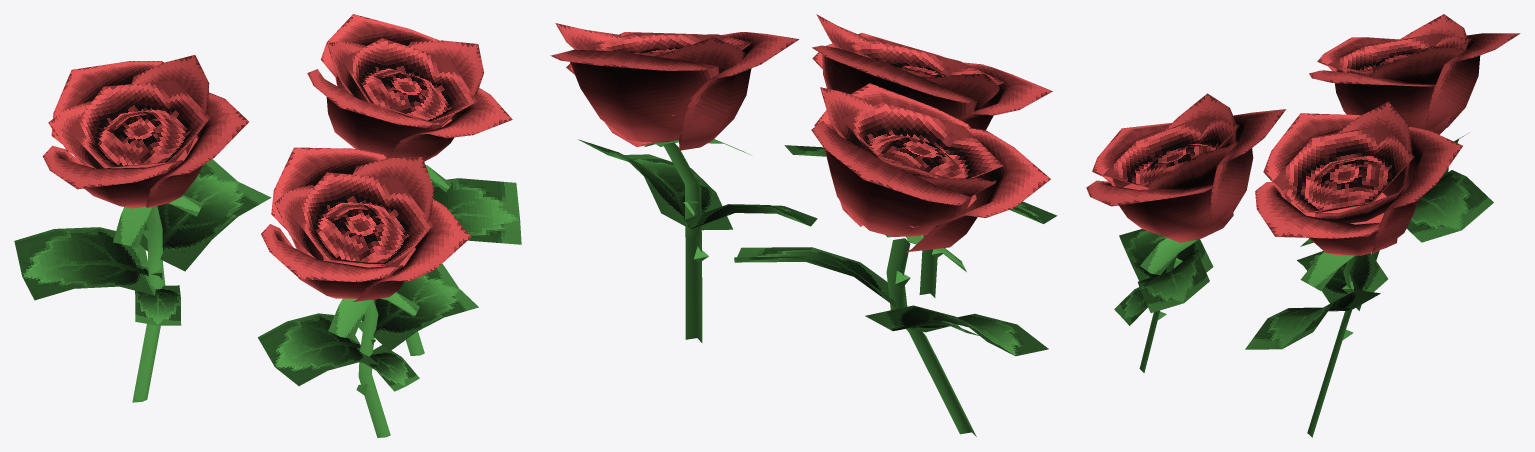
File: flower-rose.glb
The picture shows the model from 3 angles, left to right: view 1: azimuth 30°, elevation 25°; view 2: azimuth 150°, elevation 25°; view 3: azimuth 270°, elevation 25°; orthographic projection. The views are drawn at different scales.
Parts seen in each view (by area): view 1: PltFlwRose__PltFlwRose2_node2, PltFlwRose__PltFlwRose2_node1; view 2: PltFlwRose__PltFlwRose2_node2, PltFlwRose__PltFlwRose2_node1; view 3: PltFlwRose__PltFlwRose2_node2, PltFlwRose__PltFlwRose2_node1.
Boxes of the visible parts, x1,y1,x2,y2 form: PltFlwRose__PltFlwRose2_node2: (42,14,512,301); PltFlwRose__PltFlwRose2_node1: (14,159,521,437); PltFlwRose__PltFlwRose2_node2: (550,14,1052,252); PltFlwRose__PltFlwRose2_node1: (578,139,1057,436); PltFlwRose__PltFlwRose2_node2: (1086,14,1520,255); PltFlwRose__PltFlwRose2_node1: (1114,133,1493,437).
Bounding box in the file's own units: 1.01 × 0.6525 × 0.8368.
Materials: 2 (2 with a texture image).
